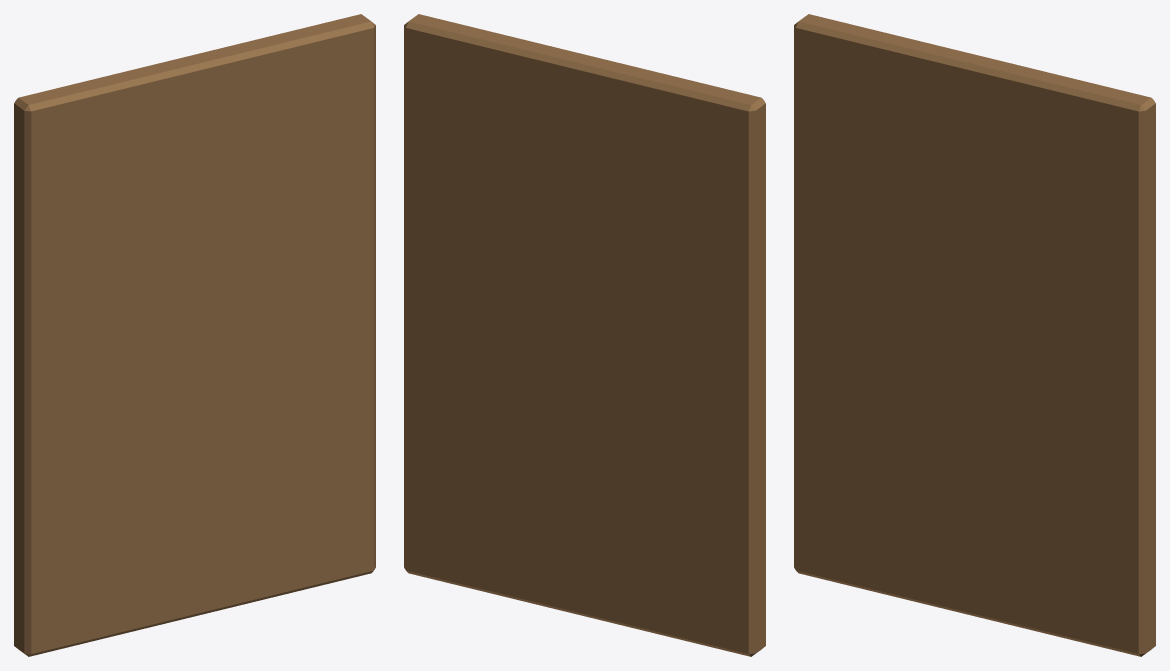
The model's file is harbor-wall.lod0.glb.
3 views of the same model, side by side, from view 1: azimuth 30°, elevation 25°; view 2: azimuth 150°, elevation 25°; view 3: azimuth 330°, elevation 25° (orthographic).
Visible parts, largest first — view 1: harbor-wall__body; view 2: harbor-wall__body; view 3: harbor-wall__body.
Part boxes in pixels (left/top/right/bottom): harbor-wall__body: left=14, top=14, right=375, bottom=656; harbor-wall__body: left=404, top=14, right=765, bottom=656; harbor-wall__body: left=794, top=14, right=1155, bottom=656.
Bounding box in the file's own units: 2 × 3 × 0.15.
